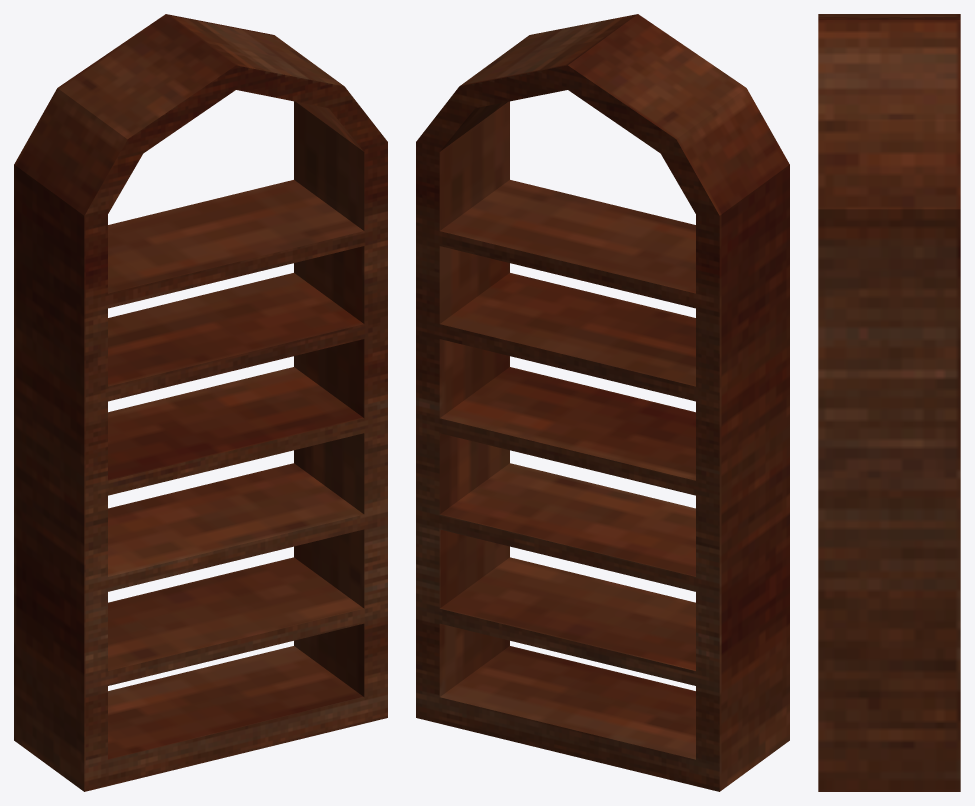
File: estanteG.glb
3 renders of one model, left to right at view 1: azimuth 30°, elevation 25°; view 2: azimuth 150°, elevation 25°; view 3: azimuth 270°, elevation 25°, orthographic.
Visible parts, largest first — view 1: bookshelf_01; view 2: bookshelf_01; view 3: bookshelf_01.
Boxes of the visible parts, x1,y1,x2,y2 form: bookshelf_01: (14, 14, 387, 791); bookshelf_01: (416, 14, 789, 791); bookshelf_01: (818, 14, 960, 791).
Size of the model in its own units: 1.98 by 4.3 by 0.7932.
Materials: 1 (1 with a texture image).
